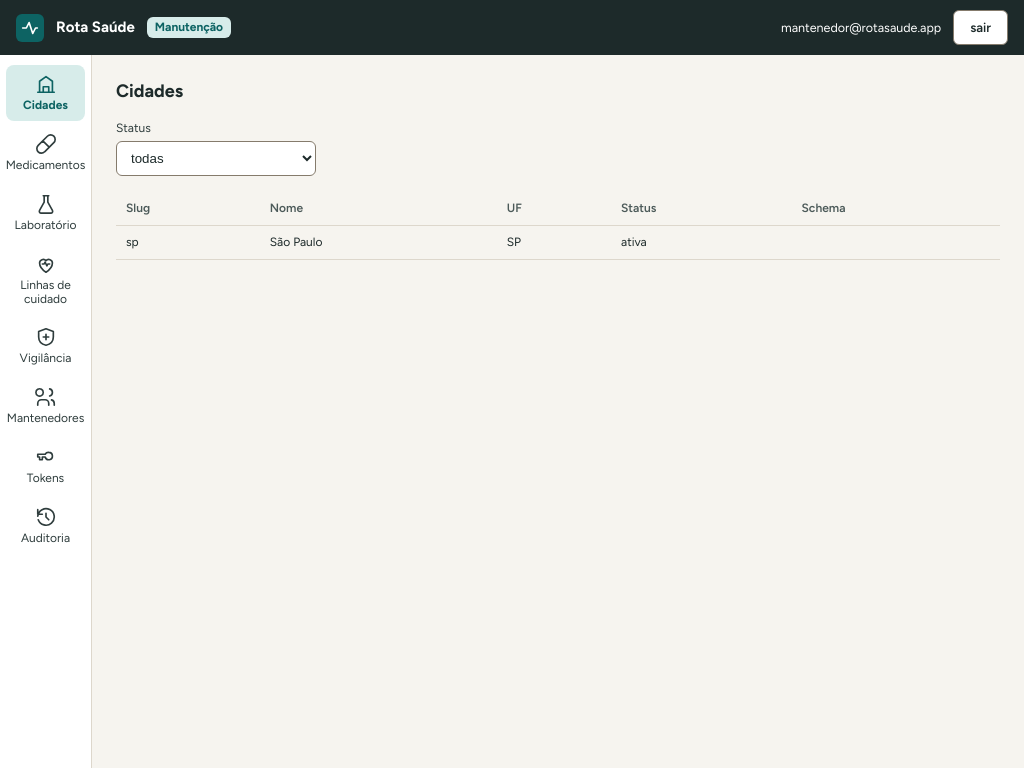
Test: Shell › A-24: no detalhe, clicar em Cidades no trilho volta ao catálogo
Click the text "São Paulo": (296, 242) [260,225,497,259]
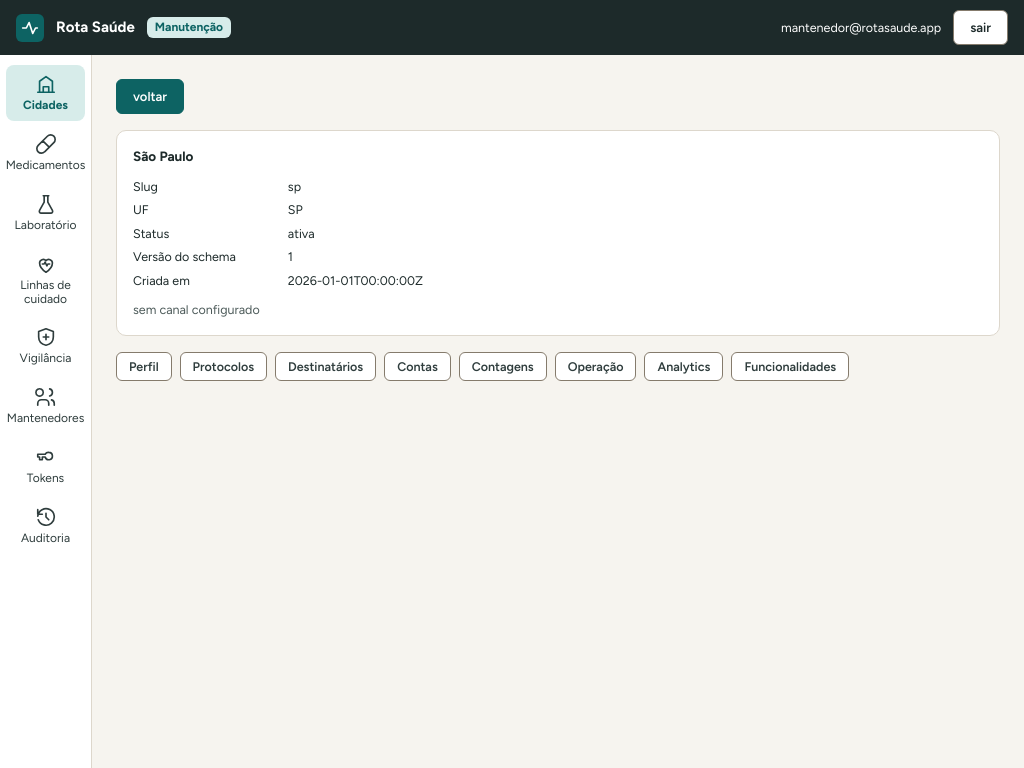
Expected: the button "voltar" is shown, [116,79,184,114]
Click the button "Cidades": (46, 93) [6,65,85,121]
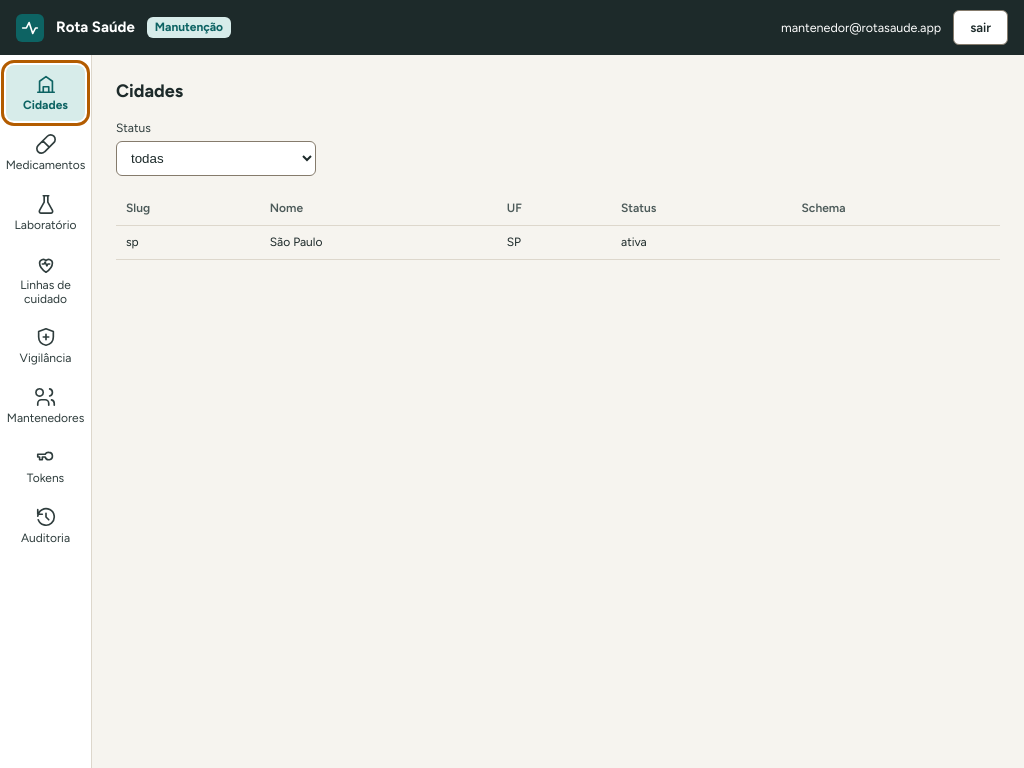
Expected: the text "São Paulo" is shown, [260,225,497,259]
Expected: the button "voltar" is gone
